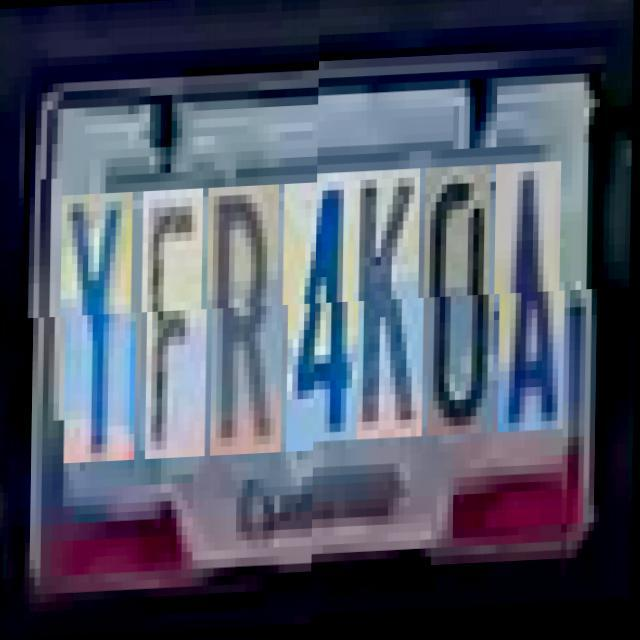0: (428, 178, 496, 450)
4: (287, 184, 361, 455)
A: (499, 176, 567, 447)
F: (146, 190, 209, 460)
K: (358, 182, 426, 452)
R: (211, 187, 285, 458)
Y: (65, 193, 139, 464)
